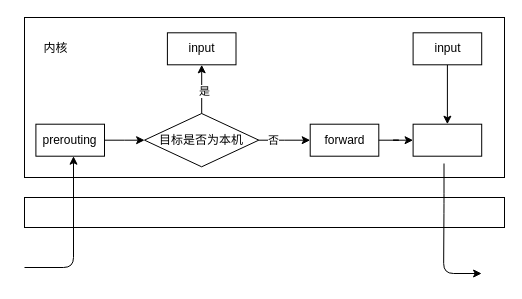
Image size: 522x299. Some labels were removed from this diagram. The centre of each missing label's shape, as x and y in pixels:
postrouting: point 447,139
网卡: point 264,212
